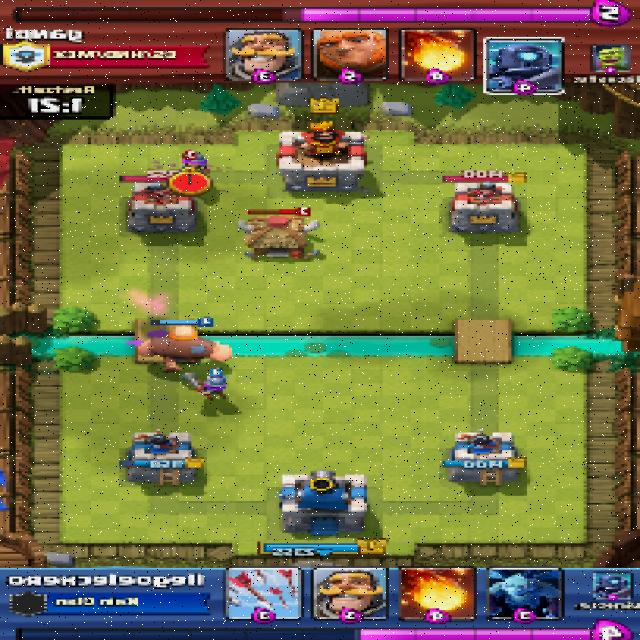Enemy-GoblinHut: (238, 216, 322, 259)
Enemy-Musketeer: (183, 154, 210, 177)
Player-Giant: (138, 325, 232, 370)
Player-Musketeer: (183, 370, 229, 400)
